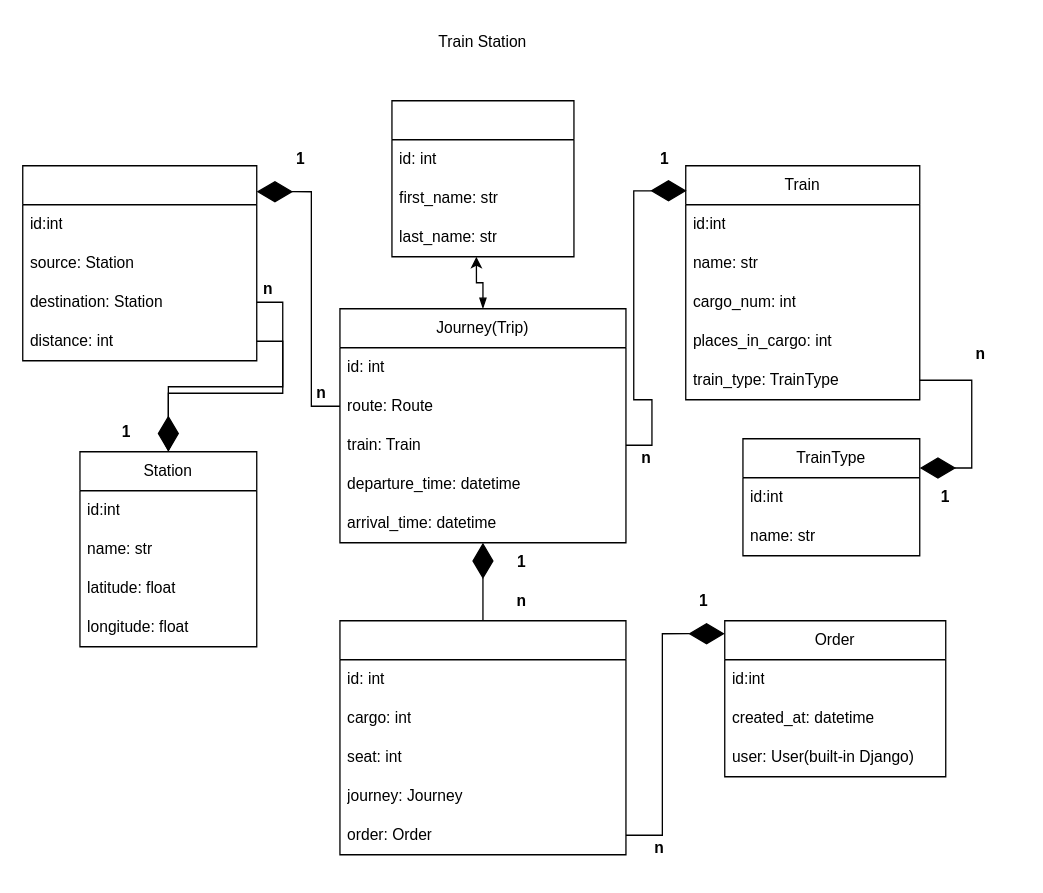
This 1043x893 diagram has some shape labels left out. Each missing label, with the box of its shape:
Crew: (391, 99, 574, 257)
Route: (21, 164, 257, 361)
Ticket: (339, 619, 626, 855)
